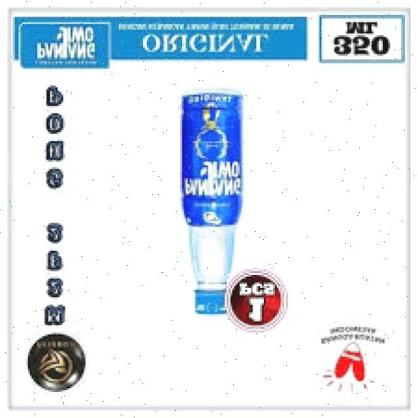bottle: (172, 88, 261, 324)
cap: (194, 283, 231, 317)
